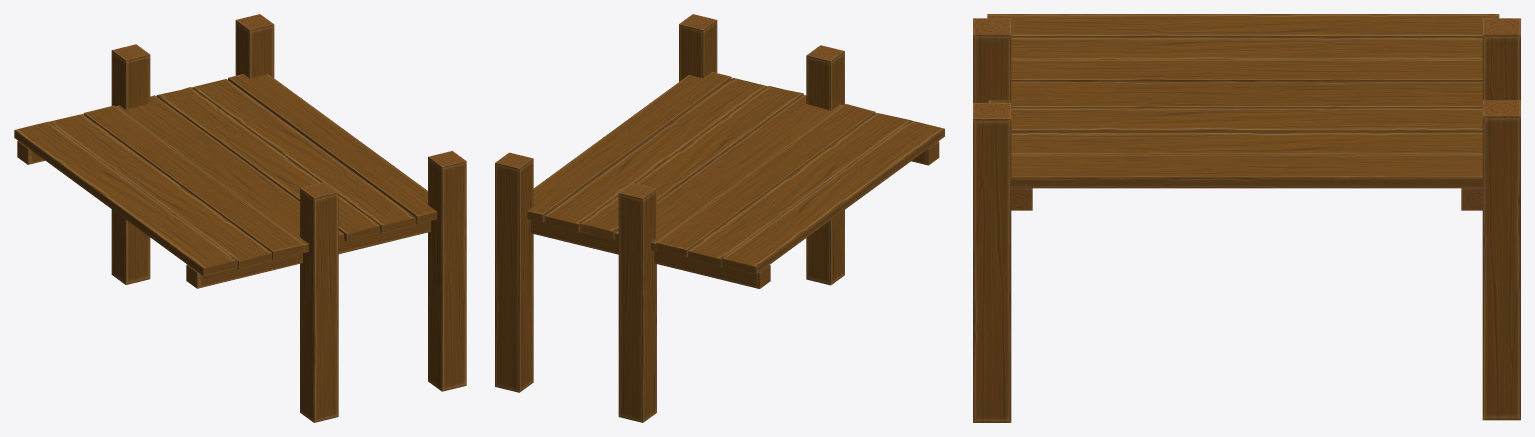
The model's file is SM_Docks_01.fbx.
3 views of the same model, side by side, from view 1: azimuth 30°, elevation 25°; view 2: azimuth 150°, elevation 25°; view 3: azimuth 270°, elevation 25° (orthographic). The views are drawn at different scales.
Visible parts, largest first — view 1: SM_Docks_01; view 2: SM_Docks_01; view 3: SM_Docks_01.
Boxes of the visible parts, box(x1,y1,x2,y2) form: SM_Docks_01: box(14, 14, 466, 422); SM_Docks_01: box(495, 14, 944, 422); SM_Docks_01: box(973, 14, 1520, 422).
Bounding box in the file's own units: 6.26 × 5.2 × 8.49.
